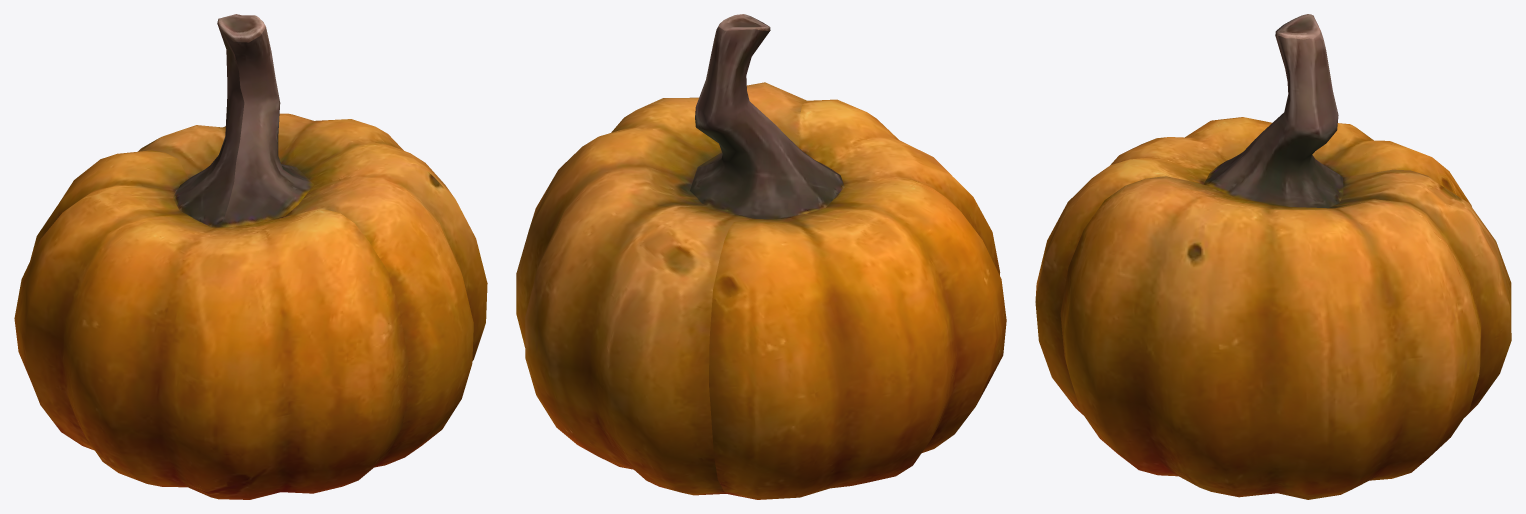
The picture shows the model from 3 angles, left to right: view 1: azimuth 30°, elevation 25°; view 2: azimuth 150°, elevation 25°; view 3: azimuth 270°, elevation 25°; orthographic projection. The views are drawn at different scales.
Parts seen in each view (by area): view 1: SM_Pumpkin_01v2_LOD0; view 2: SM_Pumpkin_01v2_LOD0; view 3: SM_Pumpkin_01v2_LOD0.
Boxes of the visible parts, <box> form: SM_Pumpkin_01v2_LOD0: <box>14,14,487,499</box>; SM_Pumpkin_01v2_LOD0: <box>516,14,1006,499</box>; SM_Pumpkin_01v2_LOD0: <box>1035,14,1511,499</box>.
Size of the model in its own units: 1.01 by 0.9825 by 1.01.
Materials: 1 (1 with a texture image).
